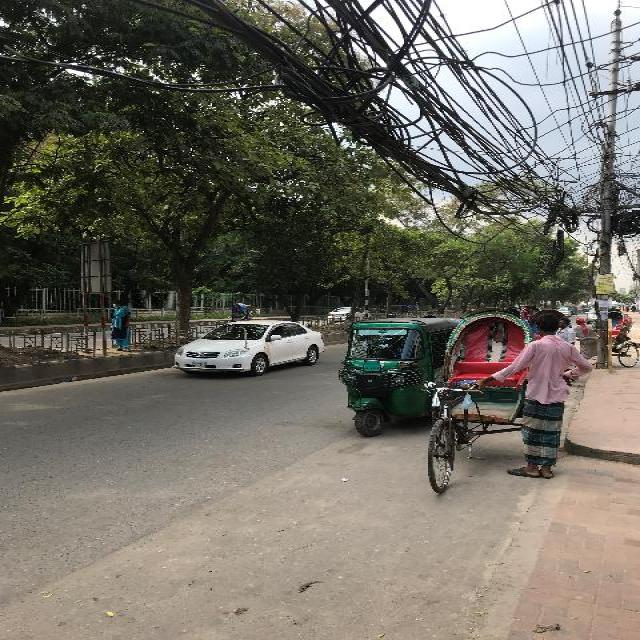car: (169, 317, 324, 374), (324, 306, 371, 321), (552, 306, 569, 315)
motorcycle: (415, 306, 537, 496), (336, 316, 461, 435), (610, 306, 638, 365), (225, 303, 255, 322), (566, 304, 578, 315), (580, 304, 589, 312)
